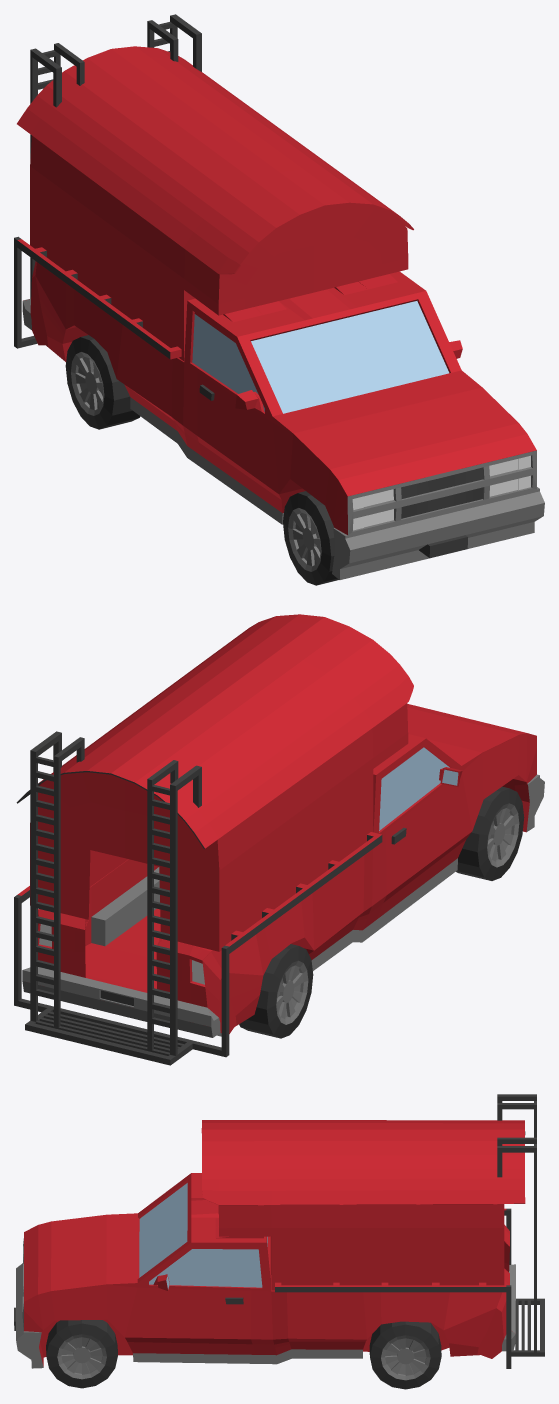
The model's file is rodDang.fbx.
The picture shows the model from 3 angles, top to bottom: view 1: azimuth 30°, elevation 25°; view 2: azimuth 150°, elevation 25°; view 3: azimuth 270°, elevation 25°; orthographic projection. The views are drawn at different scales.
Parts seen in each view (by area): view 1: Cube, Cube.001, Wheel, Wheel.001; view 2: Cube.001, Cube, Wheel.001, Wheel; view 3: Cube.001, Cube, Wheel.003, Wheel.002.
Boxes of the visible parts, bbox=[...] form: Cube: bbox=[22, 261, 544, 579]; Cube.001: bbox=[14, 14, 413, 360]; Wheel: bbox=[65, 335, 140, 429]; Wheel.001: bbox=[283, 491, 338, 585]; Cube.001: bbox=[14, 614, 413, 1065]; Cube: bbox=[22, 704, 544, 1037]; Wheel.001: bbox=[456, 786, 524, 880]; Wheel: bbox=[239, 944, 313, 1038]; Cube.001: bbox=[201, 1094, 544, 1368]; Cube: bbox=[14, 1173, 515, 1368]; Wheel.003: bbox=[46, 1320, 117, 1388]; Wheel.002: bbox=[369, 1321, 441, 1389].
Size of the model in its own units: 190 by 249 by 518.
